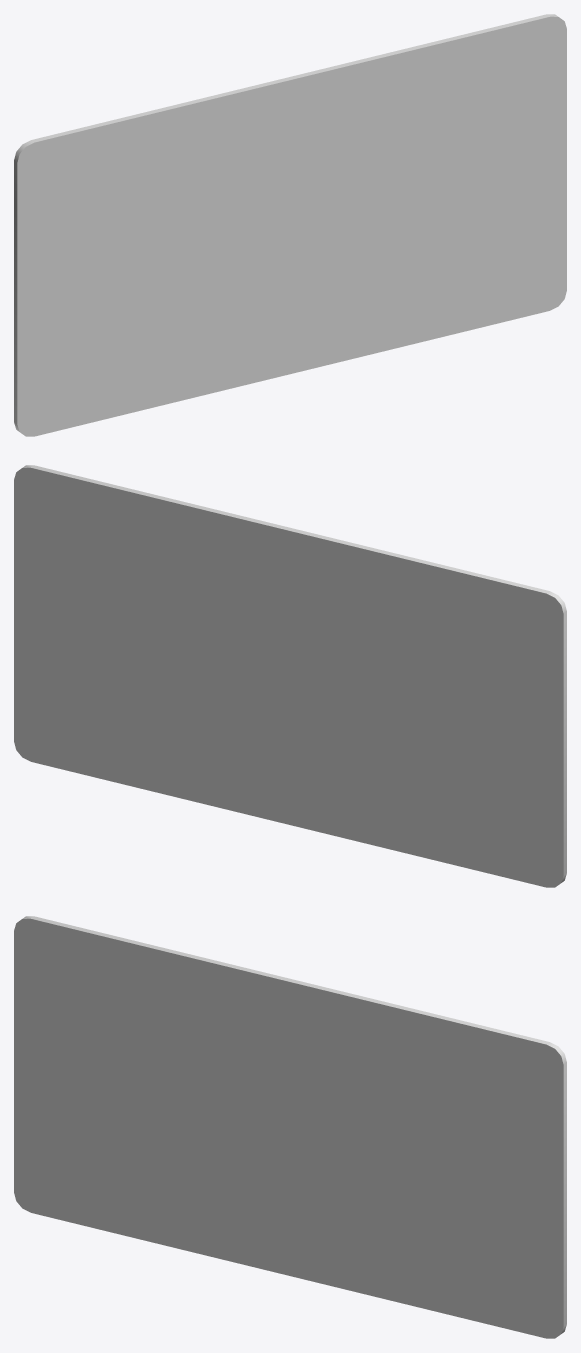
The model's file is details_bg.glb.
The picture shows the model from 3 angles, top to bottom: view 1: azimuth 30°, elevation 25°; view 2: azimuth 150°, elevation 25°; view 3: azimuth 330°, elevation 25°; orthographic projection.
Parts seen in each view (by area): view 1: details_bg; view 2: details_bg; view 3: details_bg.
Part boxes in pixels (x1=…): details_bg: x1=14, y1=14, x2=566, y2=436; details_bg: x1=14, y1=465, x2=566, y2=887; details_bg: x1=14, y1=916, x2=566, y2=1338.
Size of the model in its own units: 1.76 by 0.8973 by 0.0187.
Materials: 1 (1 with a texture image).
